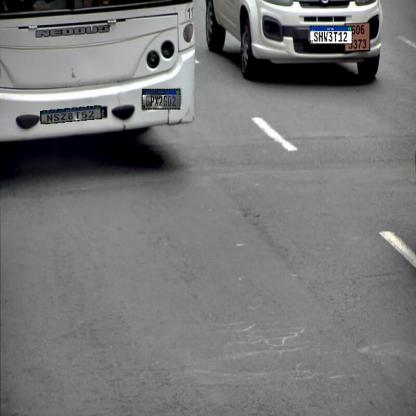PlacaM: (40, 105, 102, 124), (142, 88, 180, 110), (310, 26, 352, 44)
